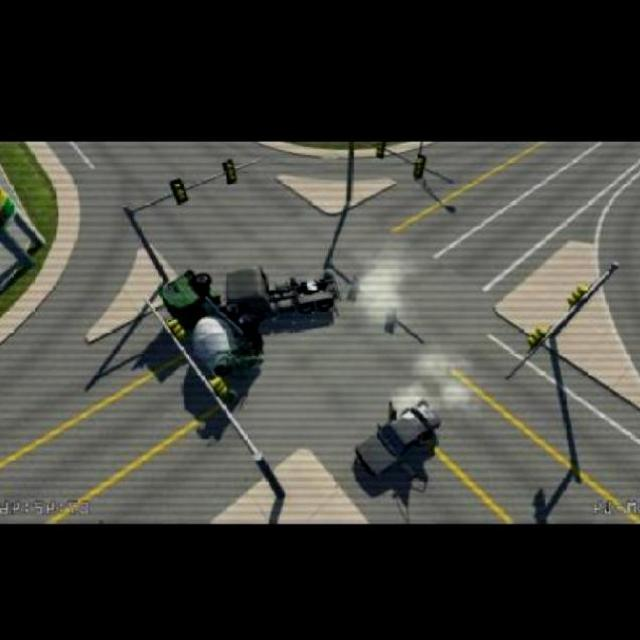accident: (158, 268, 342, 362)
